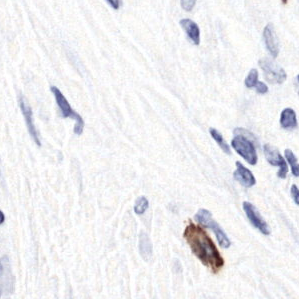Lymphocyte: (182, 221, 227, 271)
